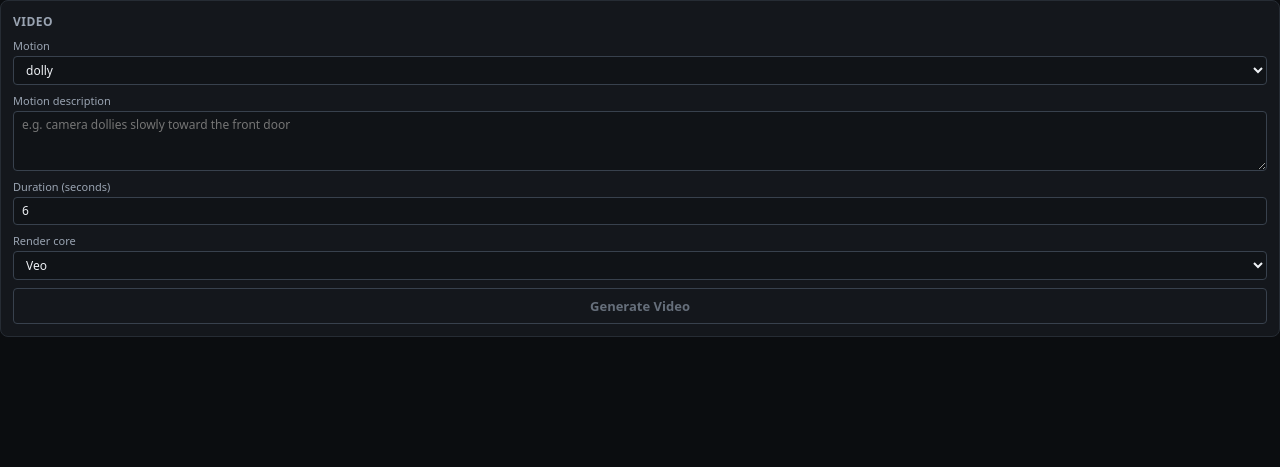
Test case: VideoPanel — BUILD 16 Image → Video › real, genuinely asynchronous video flow against apps/api › shows a failed state when the provider operation errors
In the text box labelled "Motion description": (640, 141) [13,111,1267,171], type "camera dollies toward the entrance"
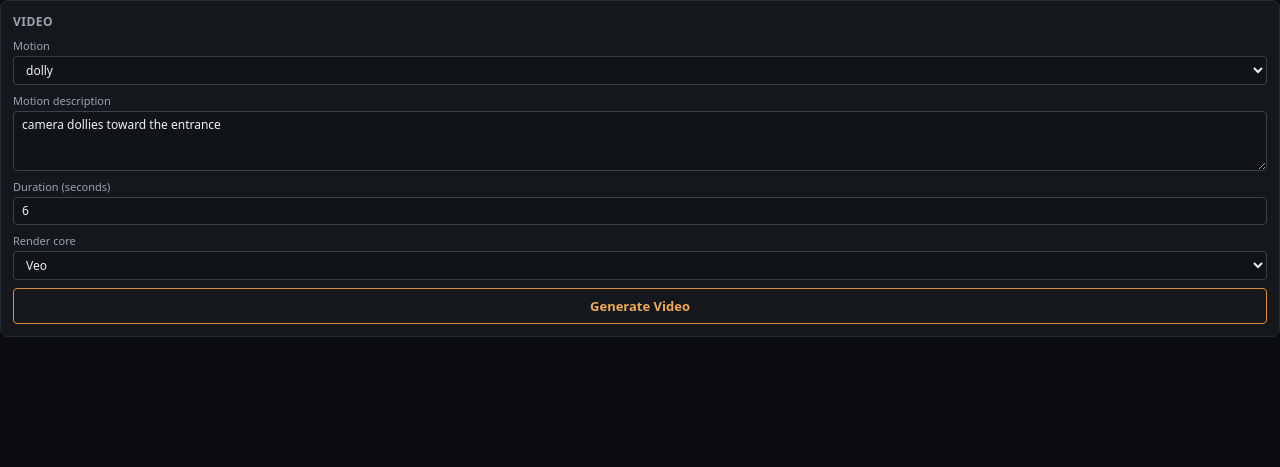
Click the button "Generate Video": (640, 306) [13,288,1267,324]
Wait 3000 ms
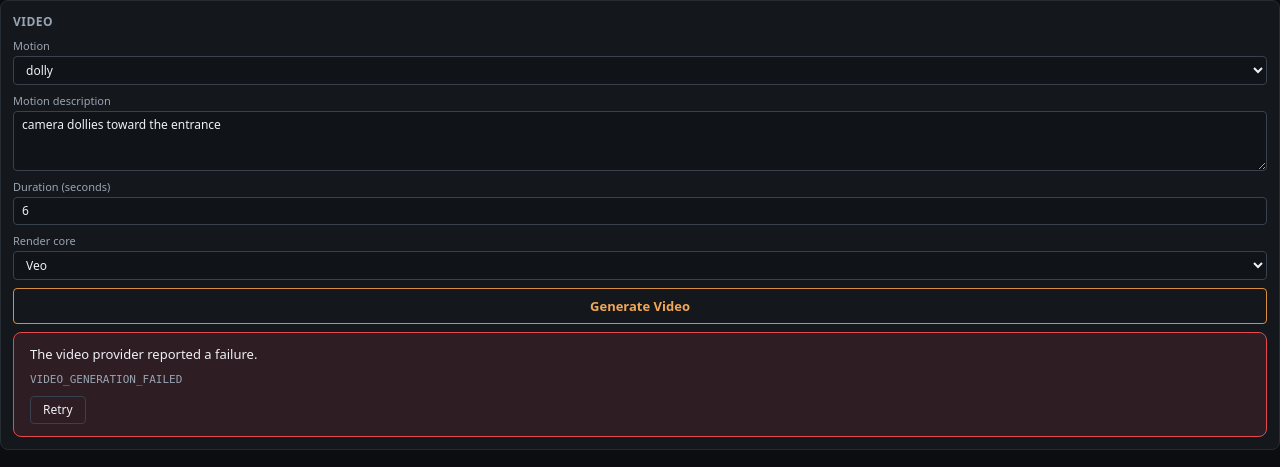
Check: the message shows "The video provider reported a failure.", box [30,345,257,363]
